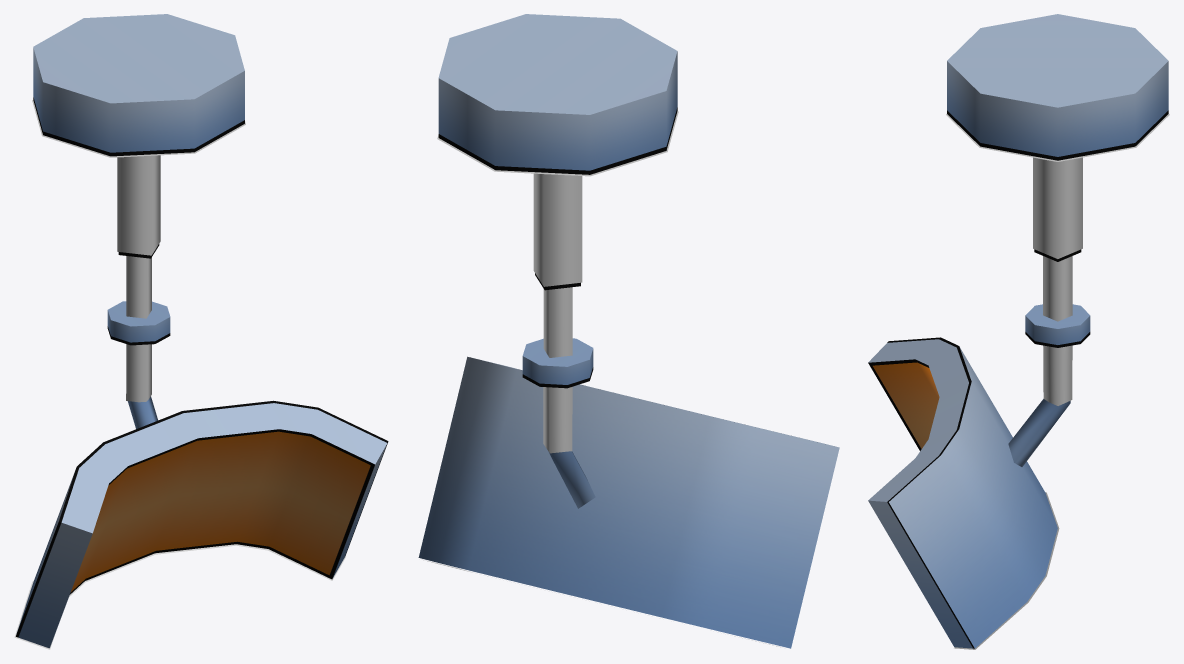
Rendered from Rooms_Paradise_SciFi_Antenna_Art.fbx.
The picture shows the model from 3 angles, left to right: view 1: azimuth 30°, elevation 25°; view 2: azimuth 150°, elevation 25°; view 3: azimuth 270°, elevation 25°; orthographic projection. The views are drawn at different scales.
Visible parts, largest first — view 1: Rooms_Paradise_SciFi_Antenna_Art, Rooms_Paradise_SciFi_Shadows; view 2: Rooms_Paradise_SciFi_Antenna_Art, Rooms_Paradise_SciFi_Shadows; view 3: Rooms_Paradise_SciFi_Antenna_Art, Rooms_Paradise_SciFi_Shadows.
Boxes of the visible parts, <box> form: Rooms_Paradise_SciFi_Antenna_Art: <box>16,14,388,648</box>; Rooms_Paradise_SciFi_Shadows: <box>14,100,345,649</box>; Rooms_Paradise_SciFi_Antenna_Art: <box>418,14,839,648</box>; Rooms_Paradise_SciFi_Shadows: <box>422,111,780,647</box>; Rooms_Paradise_SciFi_Antenna_Art: <box>868,14,1168,648</box>; Rooms_Paradise_SciFi_Shadows: <box>946,114,1169,649</box>.
Size of the model in its own units: 94.19 by 141 by 74.2.
